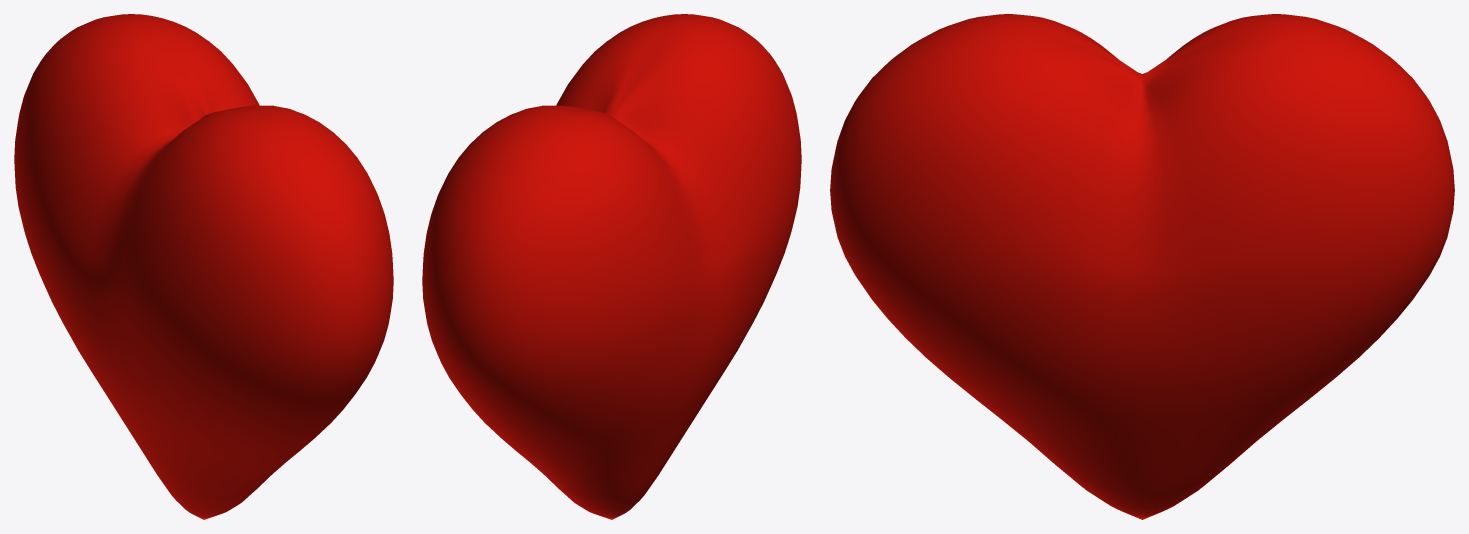
File: heart.obj
3 views of the same model, side by side, from view 1: azimuth 30°, elevation 25°; view 2: azimuth 150°, elevation 25°; view 3: azimuth 270°, elevation 25° (orthographic). The views are drawn at different scales.
Visible parts, largest first — view 1: Heart_Sphere; view 2: Heart_Sphere; view 3: Heart_Sphere.
Part boxes in pixels (<box>): Heart_Sphere: <box>14,14,393,519</box>; Heart_Sphere: <box>422,14,801,519</box>; Heart_Sphere: <box>830,14,1454,519</box>.
Bounding box in the file's own units: 2.27 × 4.42 × 5.07.
